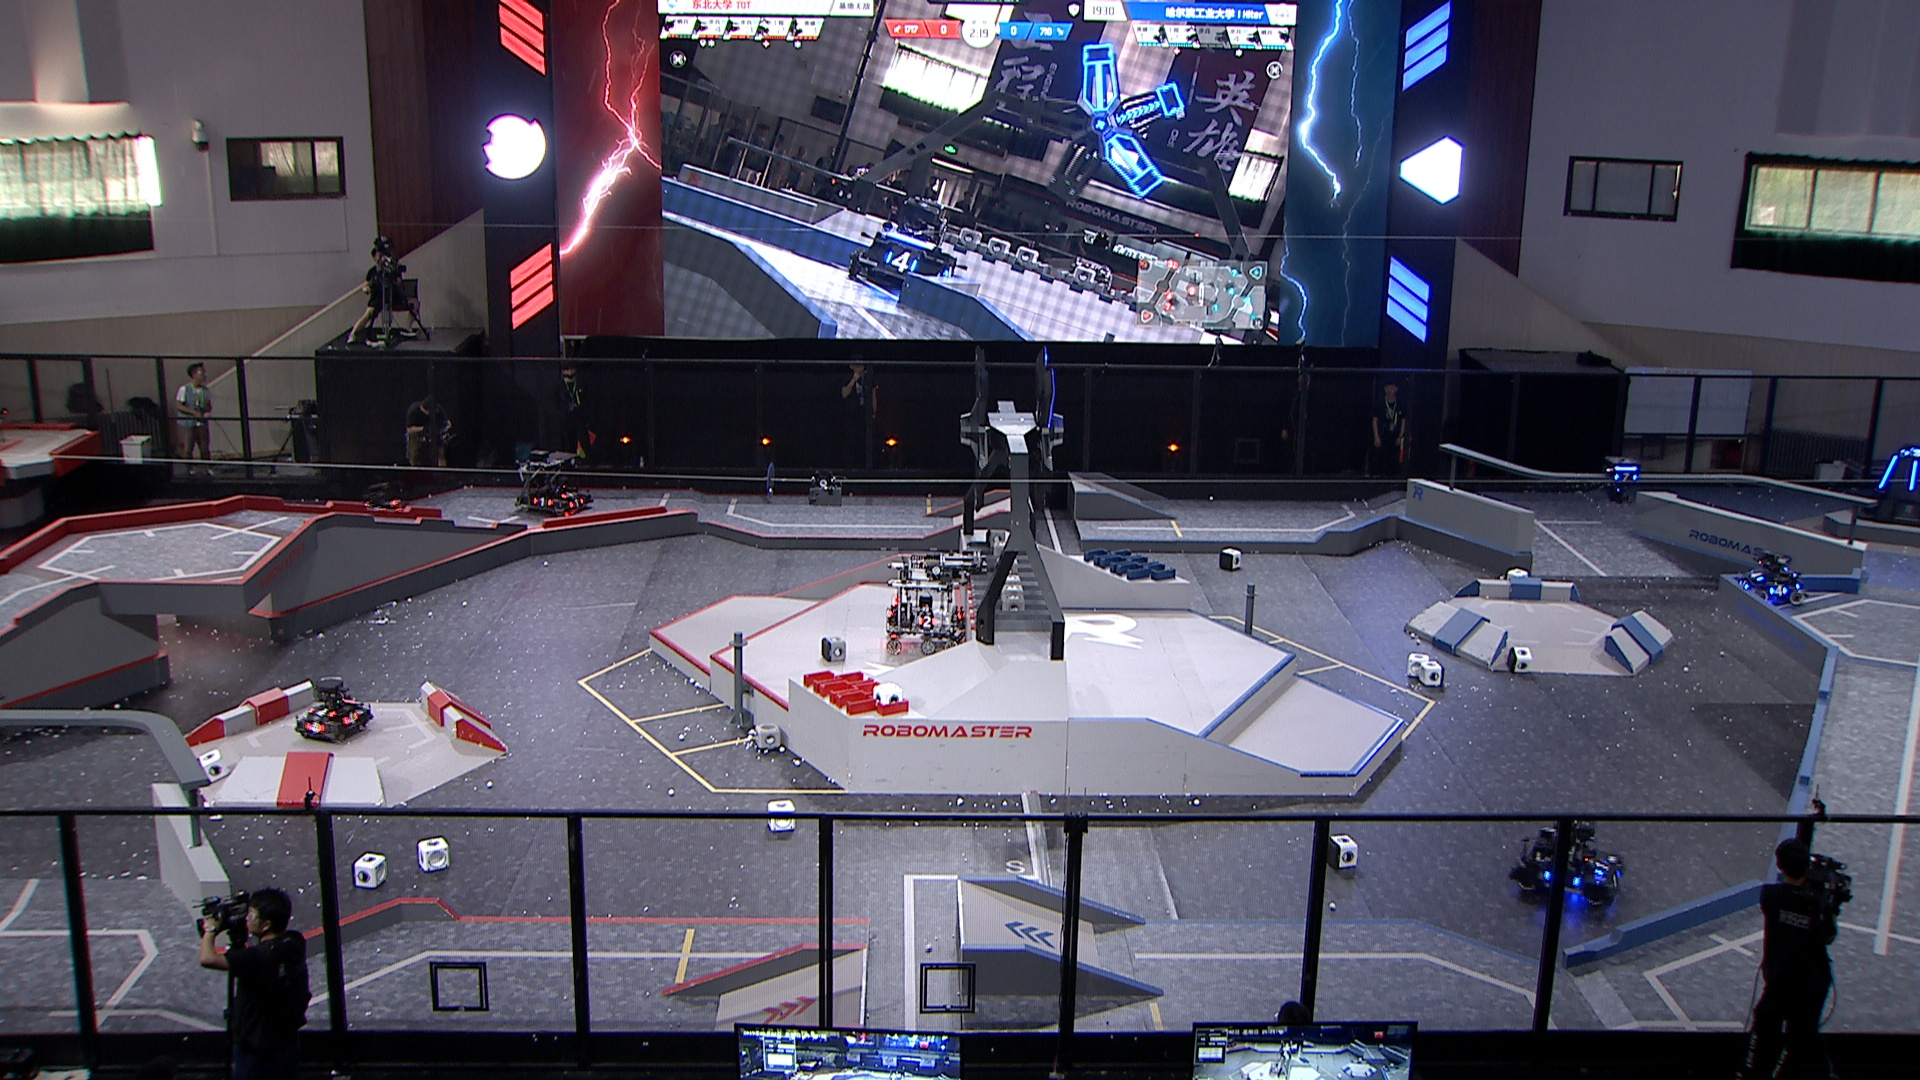armor: (1878, 455, 1898, 491), (1907, 462, 1920, 493), (310, 707, 338, 721), (1611, 471, 1640, 484), (1609, 869, 1623, 893), (1593, 858, 1610, 877), (531, 496, 555, 509), (302, 721, 327, 733), (918, 616, 940, 629), (342, 712, 361, 727), (1768, 584, 1789, 597), (567, 496, 585, 510), (1749, 568, 1764, 583), (1737, 578, 1751, 593), (1903, 448, 1920, 460), (560, 491, 580, 500)
base: (1855, 448, 1920, 527)
car: (1509, 822, 1625, 913), (884, 550, 969, 659), (512, 448, 599, 520), (291, 676, 376, 742), (1737, 553, 1808, 608), (348, 481, 410, 531)
ignore: (847, 189, 961, 297), (1068, 257, 1112, 291), (829, 167, 858, 200)
watcher: (1604, 455, 1643, 505)
